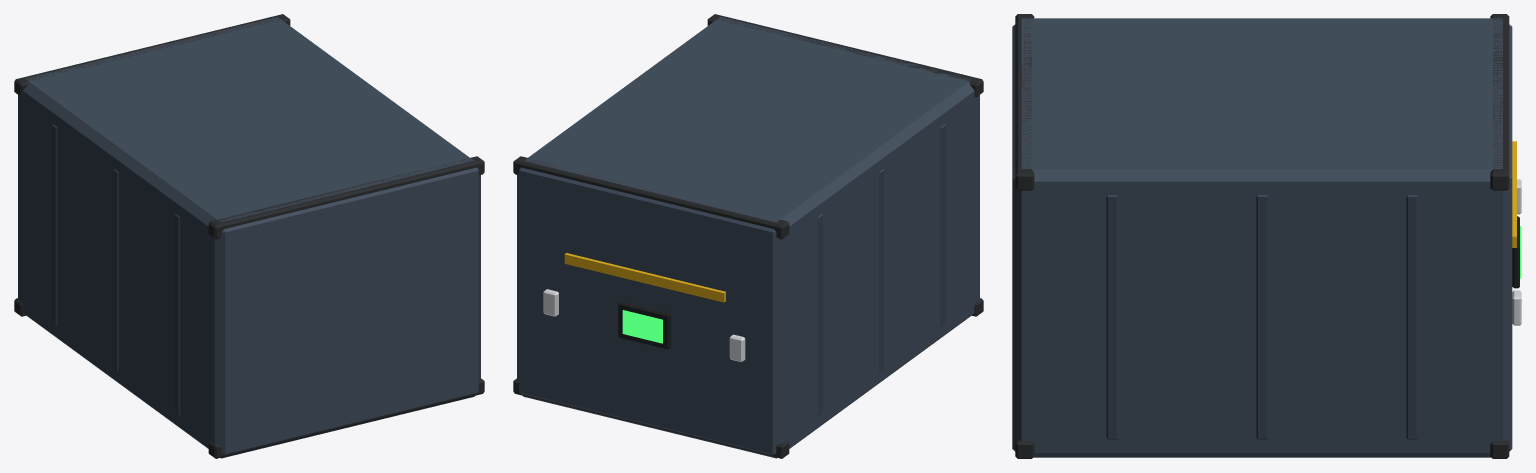
File: tech_container.glb
3 views of the same model, side by side, from view 1: azimuth 30°, elevation 25°; view 2: azimuth 150°, elevation 25°; view 3: azimuth 270°, elevation 25° (orthographic). The views are drawn at different scales.
Parts seen in each view (by area): view 1: tech_container; view 2: tech_container; view 3: tech_container.
Part boxes in pixels (box(x1,y1,x2,y2)): tech_container: box(14, 14, 484, 458); tech_container: box(513, 14, 983, 458); tech_container: box(1012, 14, 1521, 458).
Size of the model in its own units: 1.2 by 1 by 1.6.
